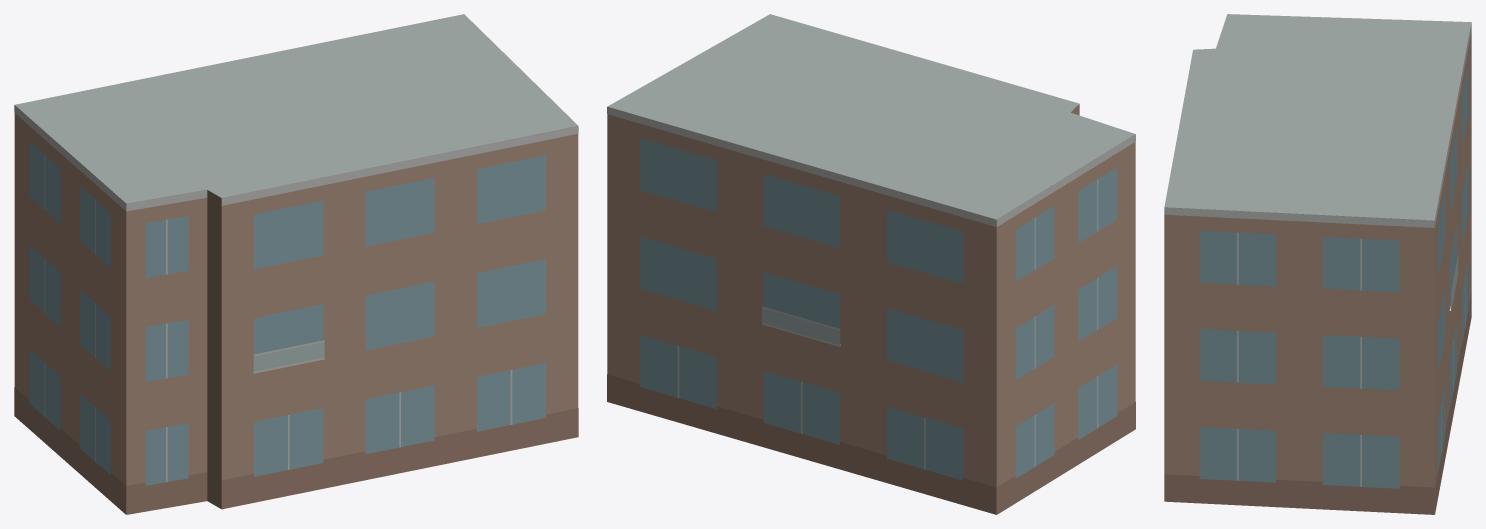
The model's file is survey-upis-32764705.glb.
The picture shows the model from 3 angles, left to right: view 1: azimuth 30°, elevation 25°; view 2: azimuth 150°, elevation 25°; view 3: azimuth 270°, elevation 25°; orthographic projection. The views are drawn at different scales.
Visible parts, largest first — view 1: survey-upis-32764705.tmp; view 2: survey-upis-32764705.tmp; view 3: survey-upis-32764705.tmp.
Boxes of the visible parts, box(x1,y1,x2,y2) form: survey-upis-32764705.tmp: box(14, 14, 578, 514); survey-upis-32764705.tmp: box(607, 14, 1135, 514); survey-upis-32764705.tmp: box(1164, 14, 1471, 514).
Size of the model in its own units: 14.46 by 9.6 by 9.09.
